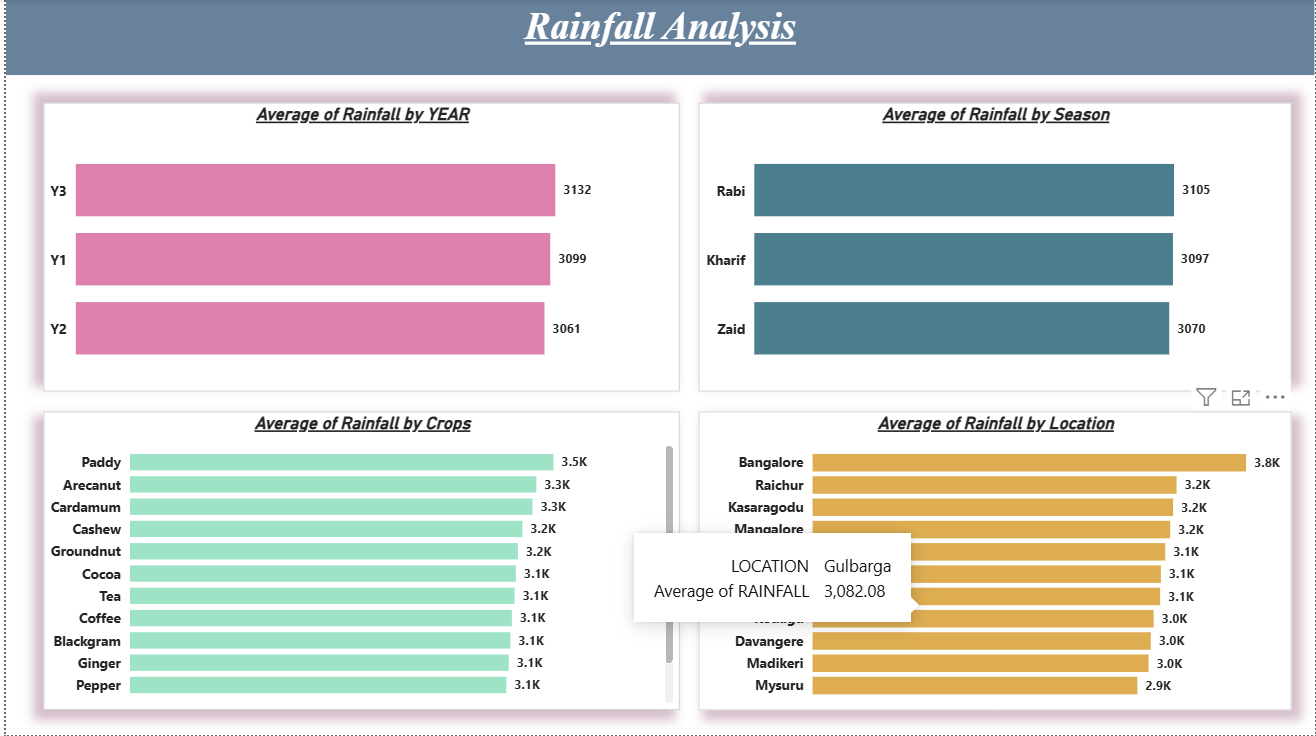

The page's visual inventory and layout, read from the dashboard file:
{"tool":"powerbi","page":{"name":"RainFall Analysis","canvas":[1280,720],"ordinal":0},"visuals":[{"type":"textbox","box":[9.6,0,1270.7,74.1],"z":0},{"type":"textbox","box":[0,0,1280.3,74.1],"z":1000},{"type":"barChart","title":"Average of Rainfall by YEAR","fields":{"Y":["Avg(AGRICULTURE.RAINFALL)"],"Category":["AGRICULTURE.YEAR","AGRICULTURE.YEAR_GROUP"]},"box":[36.9,101,622.4,282.5],"z":2000},{"type":"barChart","title":"Average of Rainfall by Season","fields":{"Y":["Avg(AGRICULTURE.RAINFALL)"],"Category":["AGRICULTURE.SEASON"]},"box":[677,101,580.1,282.5],"z":3000},{"type":"barChart","title":"Average of Rainfall by Crops","fields":{"Y":["Avg(AGRICULTURE.RAINFALL)"],"Category":["AGRICULTURE.CROPS"]},"box":[36.9,404,622.4,292.1],"z":4000},{"type":"barChart","title":"Average of Rainfall by Location","fields":{"Y":["Avg(AGRICULTURE.RAINFALL)"],"Category":["AGRICULTURE.LOCATION"]},"box":[677,404,580.1,292.1],"z":5000}]}

Visuals, with their boxes in screenshot pixels (x1, y1, x2, y2), scaled from the page's 1280x720 canvas onto the 1316x736 screenshot:
textbox: left=10, top=0, right=1315, bottom=76
textbox: left=0, top=0, right=1315, bottom=76
"Average of Rainfall by YEAR" barChart: left=38, top=103, right=678, bottom=392
"Average of Rainfall by Season" barChart: left=696, top=103, right=1292, bottom=392
"Average of Rainfall by Crops" barChart: left=38, top=413, right=678, bottom=712
"Average of Rainfall by Location" barChart: left=696, top=413, right=1292, bottom=712
